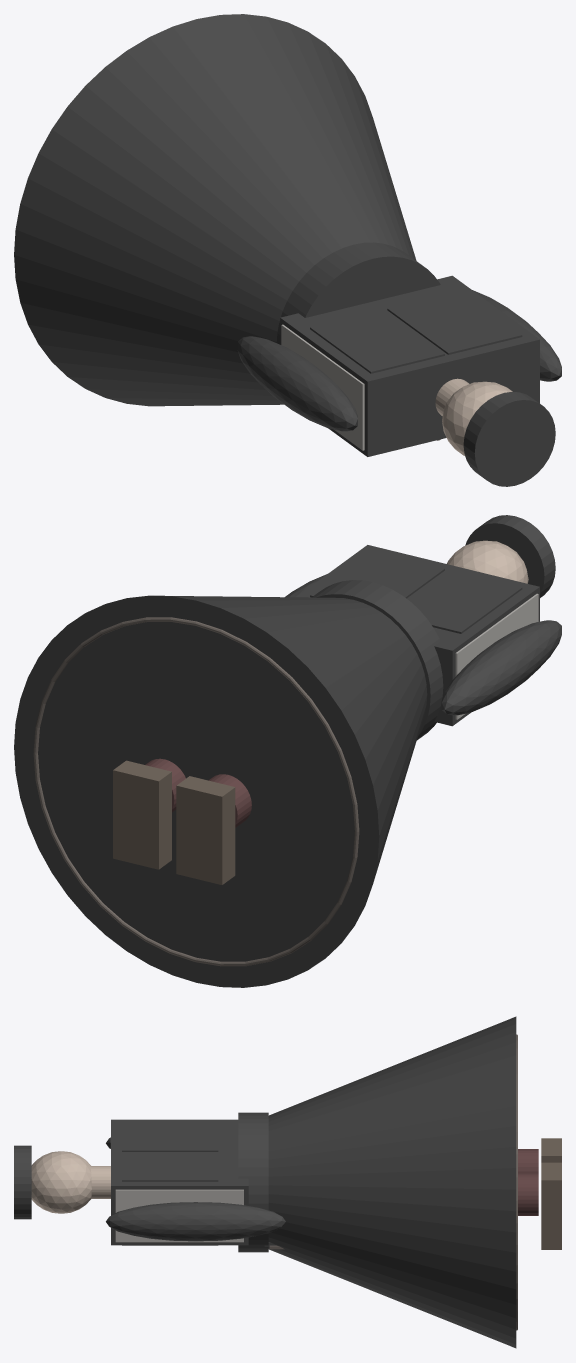
File: MASTER_012_STAGE3_DETAIL.glb
The picture shows the model from 3 angles, top to bottom: view 1: azimuth 30°, elevation 25°; view 2: azimuth 150°, elevation 25°; view 3: azimuth 270°, elevation 25°; orthographic projection. The views are drawn at different scales.
Parts seen in each view (by area): view 1: slot_lower_main__fund_i_gjatë, slot_upper_inner__këmishë, slot_waist__brez, slot_headwear__mbulesë_koke, slot_upper_inner_sleeve_L, slot_upper_outer__jelek_R, slot_upper_outer__jelek_L, mannequin_torso, mannequin_head, slot_upper_inner_sleeve_R; view 2: slot_lower_main__fund_i_gjatë, slot_footwear__opinga_L, slot_footwear__opinga_R, slot_upper_inner_sleeve_L, detail_skirt_hem, slot_waist__brez, slot_upper_inner__këmishë, slot_upper_outer__jelek_L, slot_headwear__mbulesë_koke, slot_upper_outer__jelek_R, mannequin_head, mannequin_torso (+1 smaller); view 3: slot_lower_main__fund_i_gjatë, slot_upper_inner_sleeve_R, slot_upper_inner__këmishë, mannequin_head, slot_waist__brez, slot_upper_outer__jelek_R, slot_upper_outer__jelek_L, mannequin_torso, slot_footwear__opinga_R, slot_headwear__mbulesë_koke, slot_legwear__çorape_R, mannequin_neck (+3 smaller).
Boxes of the visible parts, x1=… form: slot_lower_main__fund_i_gjatë: x1=14, y1=14, x2=416, y2=406; slot_upper_inner__këmishë: x1=280, y1=275, x2=539, y2=456; slot_waist__brez: x1=276, y1=242, x2=440, y2=344; slot_headwear__mbulesë_koke: x1=463, y1=391, x2=555, y2=486; slot_upper_inner_sleeve_L: x1=237, y1=336, x2=357, y2=431; slot_upper_outer__jelek_R: x1=387, y1=290, x2=522, y2=354; slot_upper_outer__jelek_L: x1=310, y1=309, x2=444, y2=373; mannequin_torso: x1=281, y1=324, x2=364, y2=450; mannequin_head: x1=442, y1=381, x2=512, y2=455; slot_upper_inner_sleeve_R: x1=472, y1=290, x2=561, y2=381; slot_lower_main__fund_i_gjatë: x1=14, y1=595, x2=427, y2=987; slot_footwear__opinga_L: x1=176, y1=776, x2=235, y2=884; slot_footwear__opinga_R: x1=113, y1=760, x2=171, y2=869; slot_upper_inner_sleeve_L: x1=441, y1=620, x2=561, y2=715; detail_skirt_hem: x1=33, y1=617, x2=359, y2=966; slot_waist__brez: x1=312, y1=580, x2=443, y2=740; slot_upper_inner__këmishë: x1=296, y1=545, x2=539, y2=726; slot_upper_outer__jelek_L: x1=408, y1=569, x2=522, y2=633; slot_headwear__mbulesë_koke: x1=465, y1=515, x2=555, y2=597; slot_upper_outer__jelek_R: x1=310, y1=550, x2=444, y2=598; mannequin_head: x1=447, y1=540, x2=528, y2=583; mannequin_torso: x1=455, y1=593, x2=538, y2=719; slot_lower_main__fund_i_gjatë: x1=268, y1=1016, x2=516, y2=1348; slot_upper_inner_sleeve_R: x1=106, y1=1202, x2=285, y2=1241; slot_upper_inner__këmishë: x1=111, y1=1119, x2=248, y2=1245; mannequin_head: x1=31, y1=1151, x2=91, y2=1213; slot_waist__brez: x1=238, y1=1112, x2=268, y2=1252; slot_upper_outer__jelek_R: x1=122, y1=1152, x2=218, y2=1245; slot_upper_outer__jelek_L: x1=122, y1=1122, x2=218, y2=1151; mannequin_torso: x1=115, y1=1189, x2=243, y2=1242; slot_footwear__opinga_R: x1=541, y1=1162, x2=561, y2=1249; slot_headwear__mbulesë_koke: x1=14, y1=1145, x2=31, y2=1219; slot_legwear__çorape_R: x1=518, y1=1173, x2=538, y2=1215; mannequin_neck: x1=91, y1=1166, x2=110, y2=1198.
Size of the model in its own units: 1.04 by 1.04 by 1.71.
